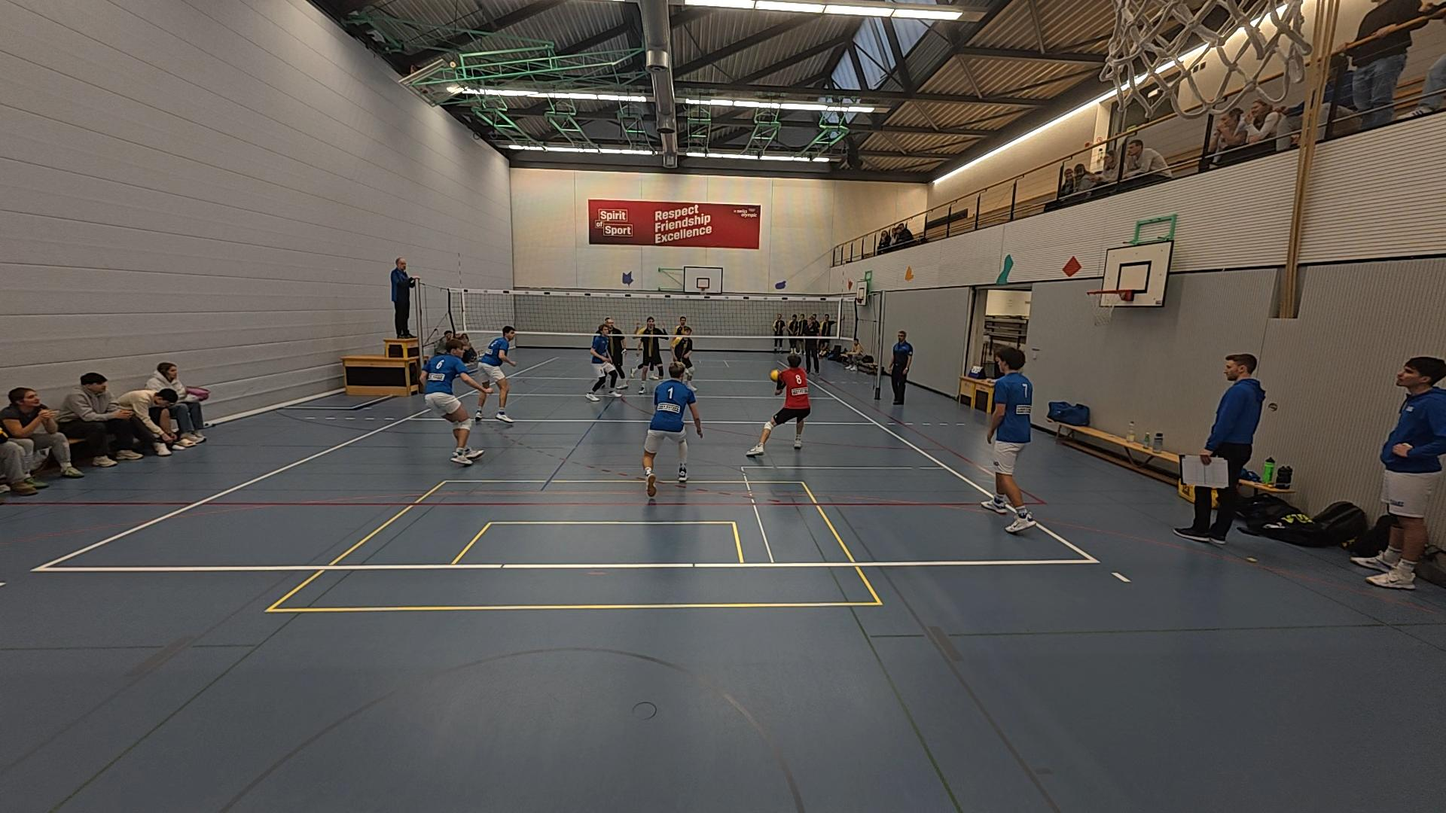Player: (981, 348, 1037, 533), (419, 332, 491, 465), (644, 363, 704, 500), (474, 325, 517, 424), (587, 320, 625, 403), (635, 315, 667, 385), (601, 317, 630, 388), (670, 320, 697, 386), (673, 314, 690, 338)
Receive: (744, 358, 814, 458)
ball: (769, 368, 786, 383), (901, 265, 916, 280)
